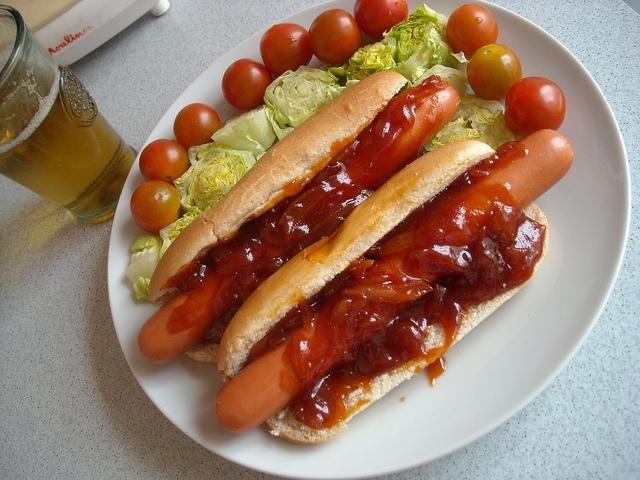tomato: (503, 76, 566, 138), (466, 43, 522, 102), (308, 9, 362, 66), (260, 23, 314, 76), (446, 4, 498, 59), (130, 180, 182, 234), (222, 58, 274, 110), (140, 138, 190, 187), (174, 102, 222, 149), (354, 0, 409, 38)
